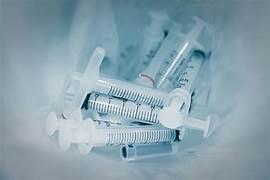Syringe: (84, 51, 208, 130), (56, 47, 166, 117), (47, 113, 180, 153), (140, 17, 205, 87), (158, 51, 209, 135), (155, 18, 205, 86), (82, 92, 159, 123), (120, 142, 177, 160)
